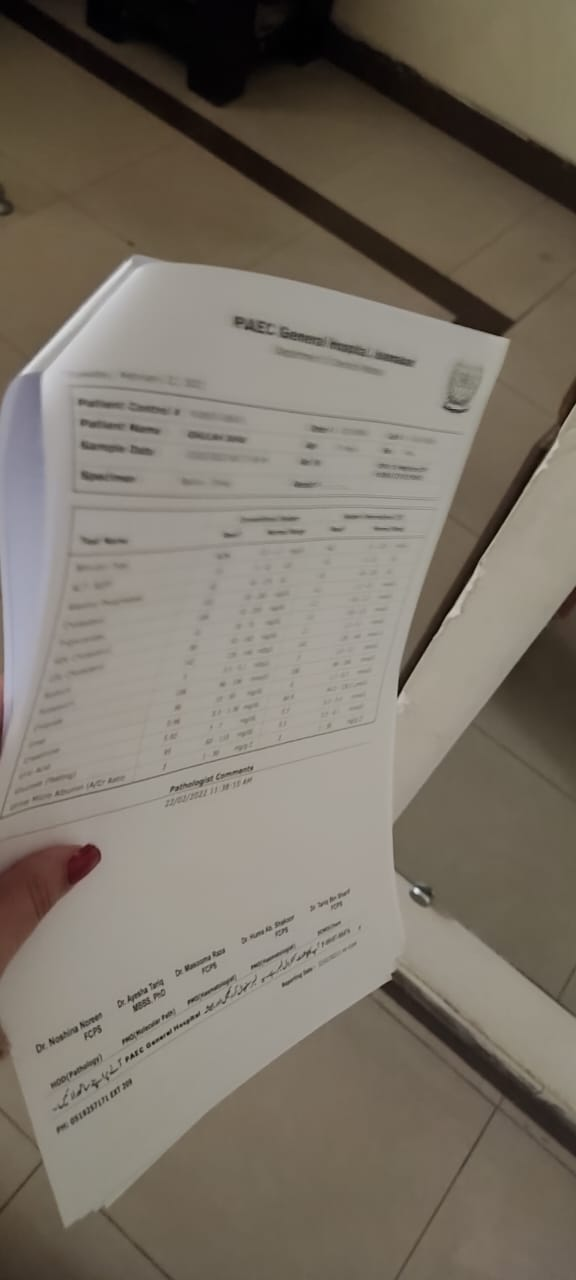report: (3, 502, 450, 806)
